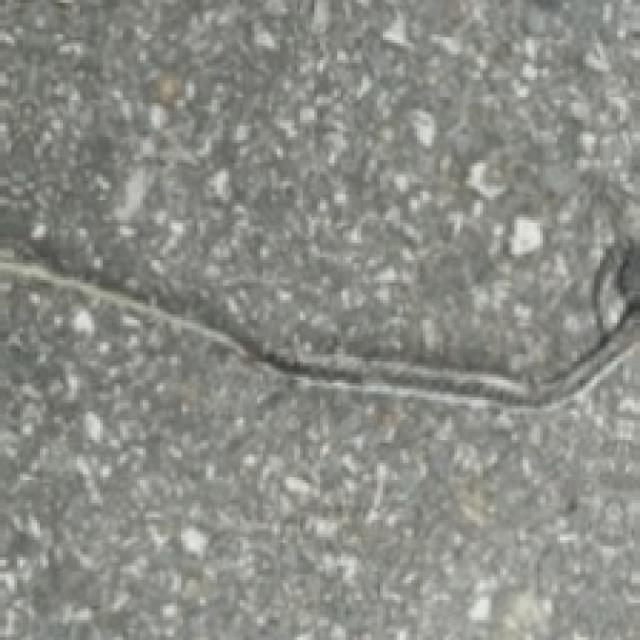king cobra: (206, 246, 637, 403)
